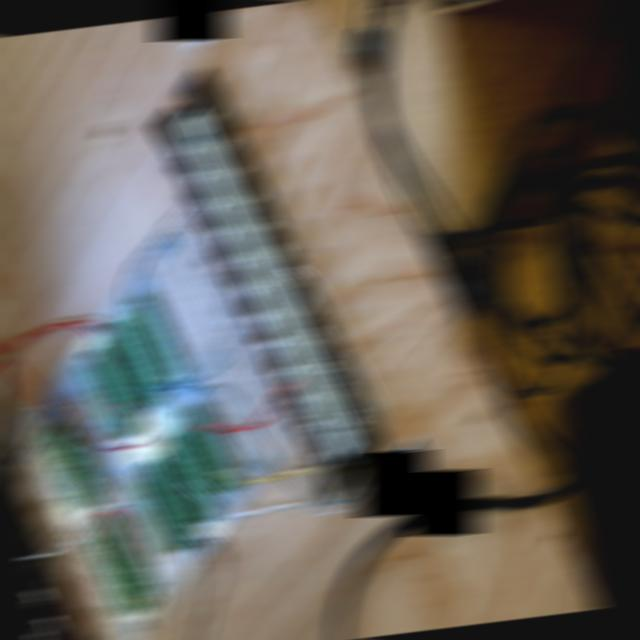Phillips_Block: (137, 66, 397, 500)
Terminal_1: (84, 520, 154, 616), (39, 421, 105, 513)
Terminal_2: (127, 465, 195, 554), (150, 437, 216, 526), (171, 408, 237, 496), (95, 322, 161, 410), (76, 350, 141, 439)
